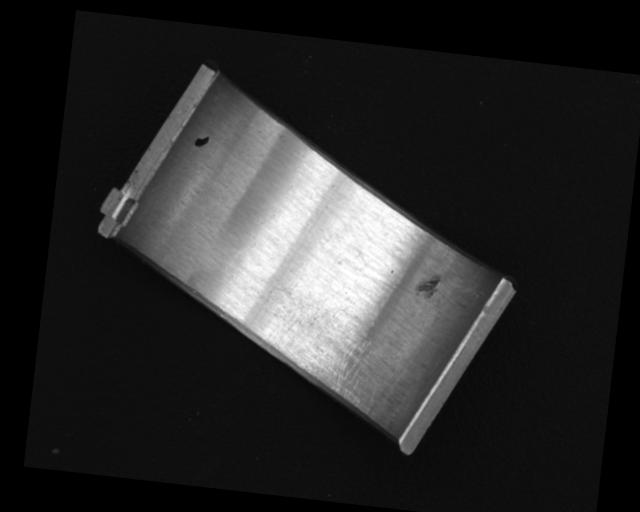blot: (192, 133, 210, 149)
bruise: (413, 273, 442, 301)
scratch: (266, 302, 386, 414)
